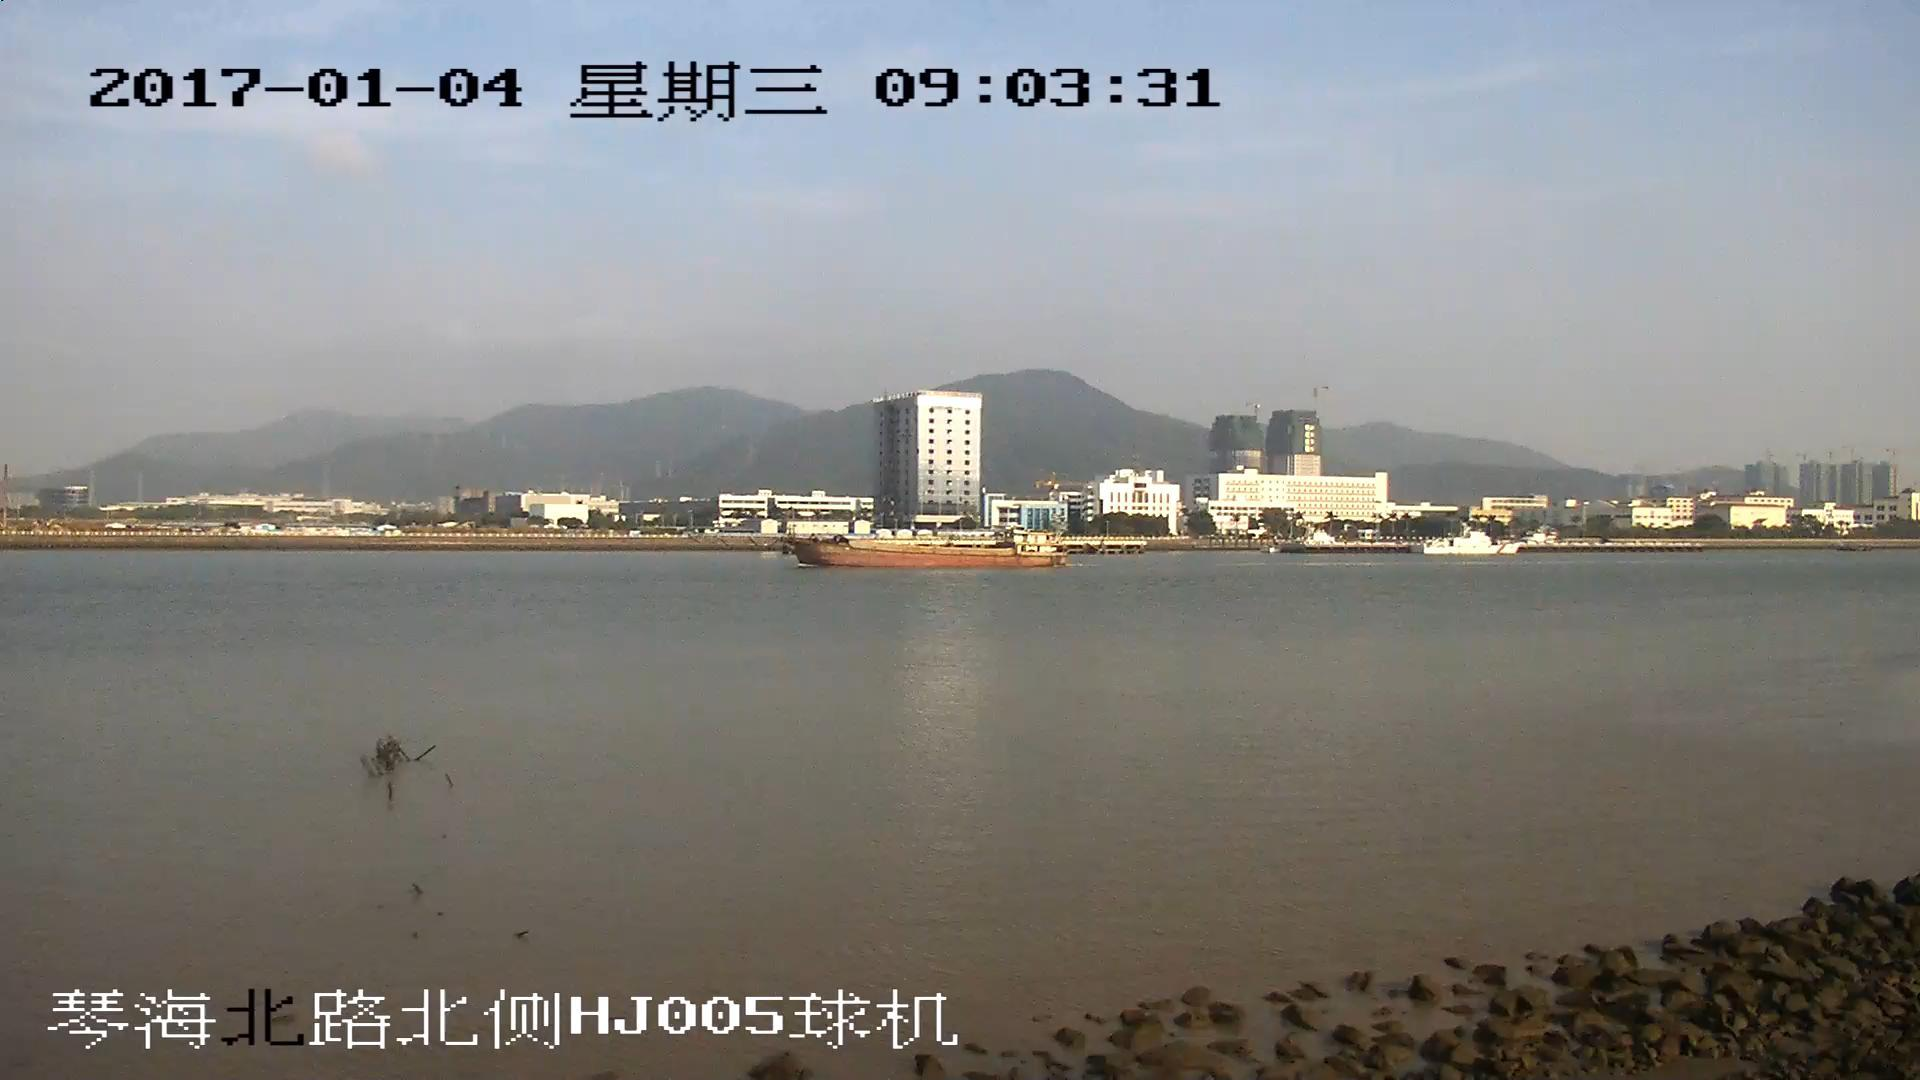Ship: (793, 526, 1067, 568)
